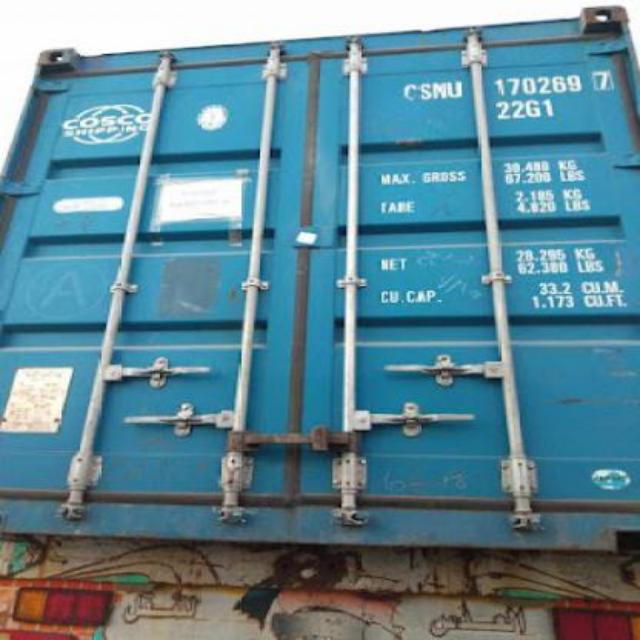0: (522, 77, 536, 96)
1: (492, 76, 506, 98)
2: (536, 76, 552, 96)
6: (552, 74, 566, 94)
7: (588, 68, 612, 92), (506, 77, 522, 97)
9: (567, 74, 583, 94)
C: (401, 82, 417, 102)
N: (432, 80, 448, 100)
S: (418, 82, 434, 102)
U: (448, 78, 464, 100)
